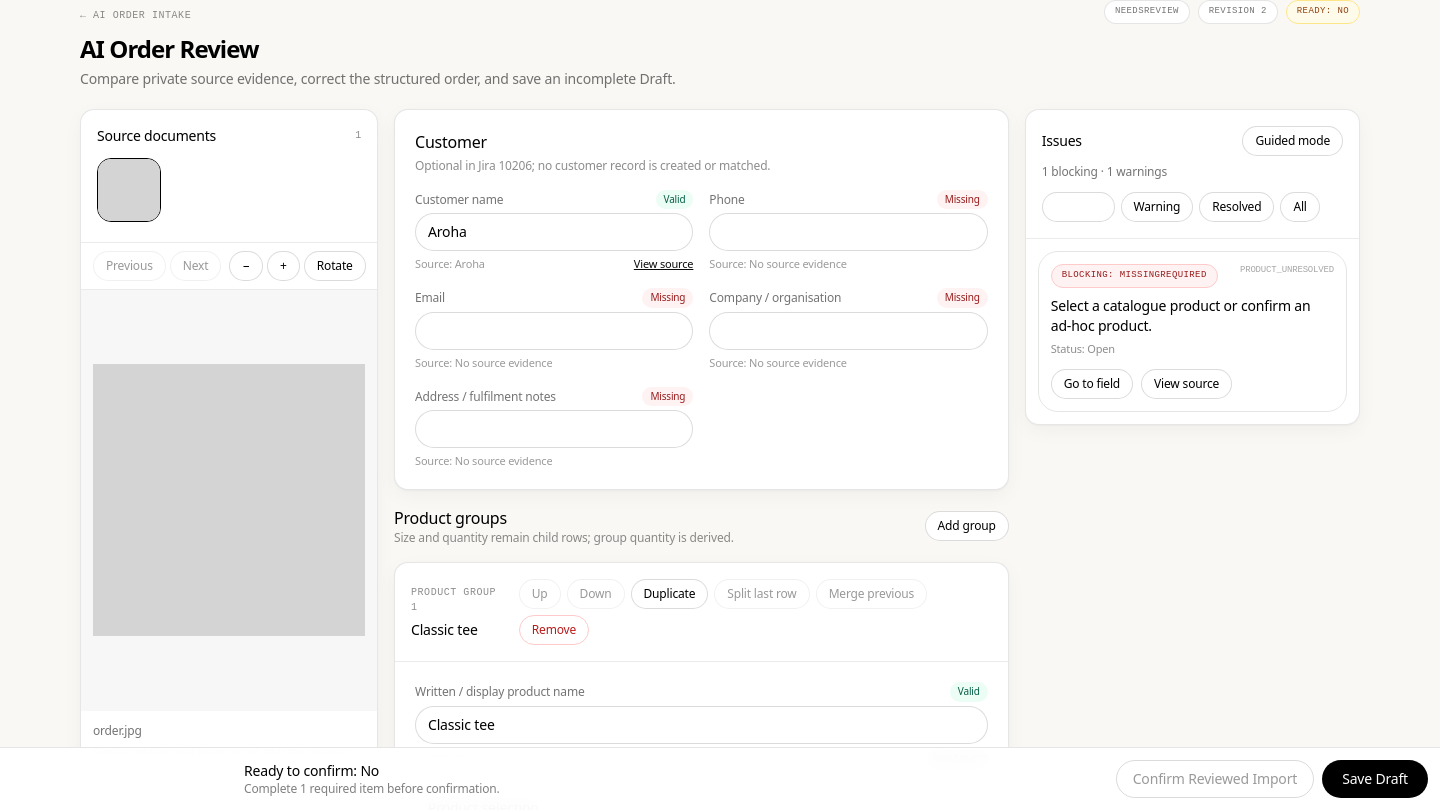
it: AI Order Review workspace › saves the complete editable document with expected revision and no confirmation fields
Replace the text in the field named "Customer name" with "Aroha R": [554, 232] box [415,213,693,251]
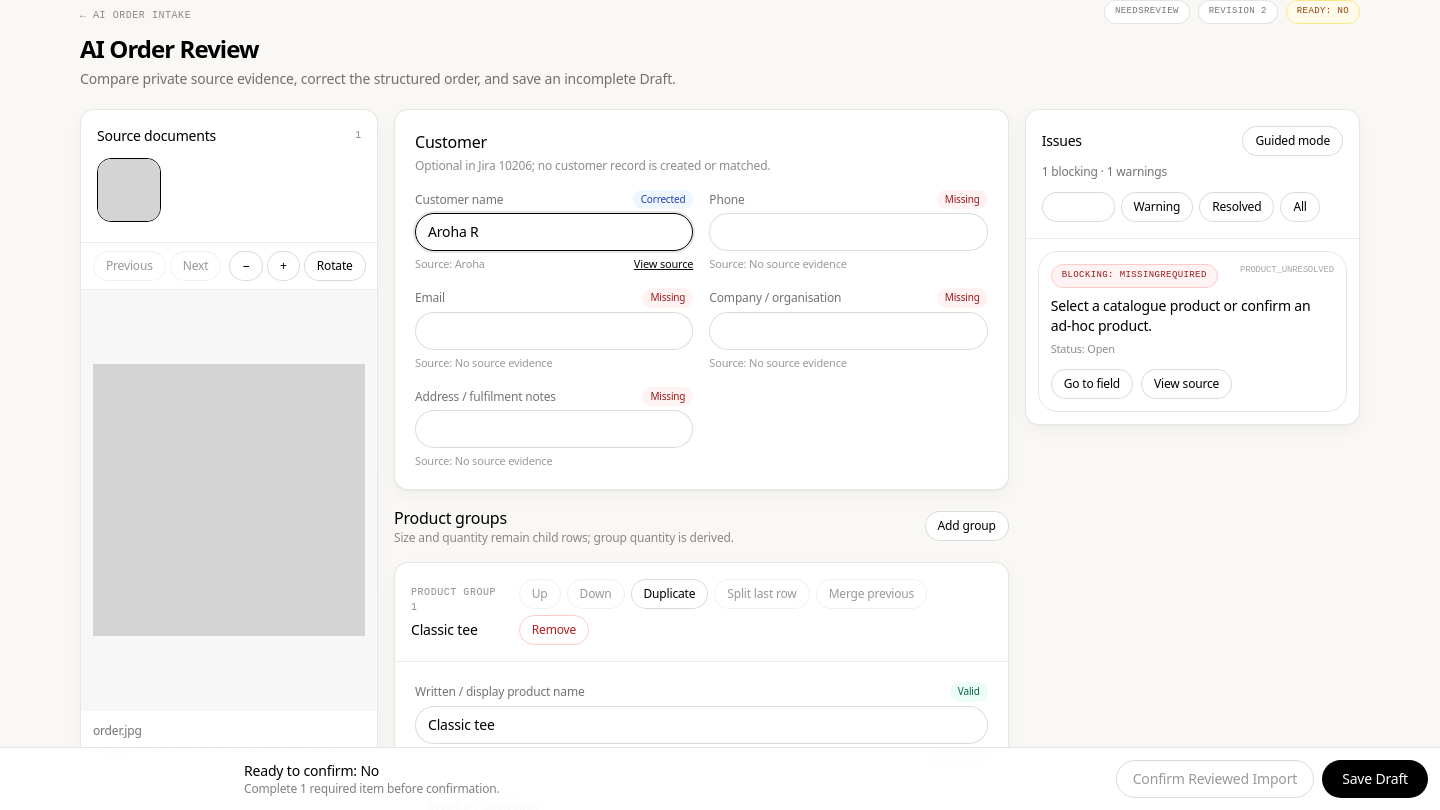
Click the button "Save Draft": [1375, 779] box [1322,760,1428,798]
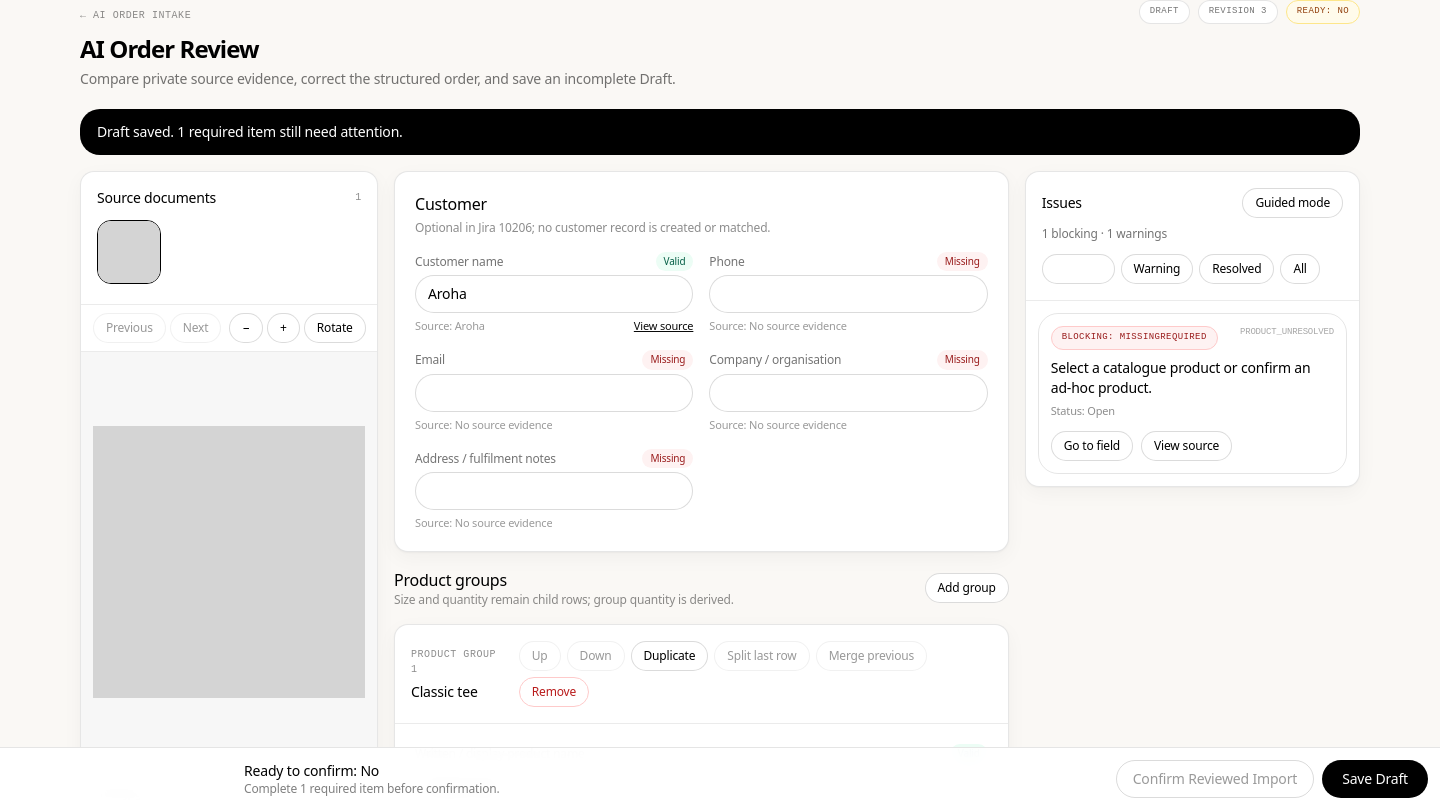
Expected: the text "Draft saved. 1 required item still need attention." is shown, [80,109,1360,155]
